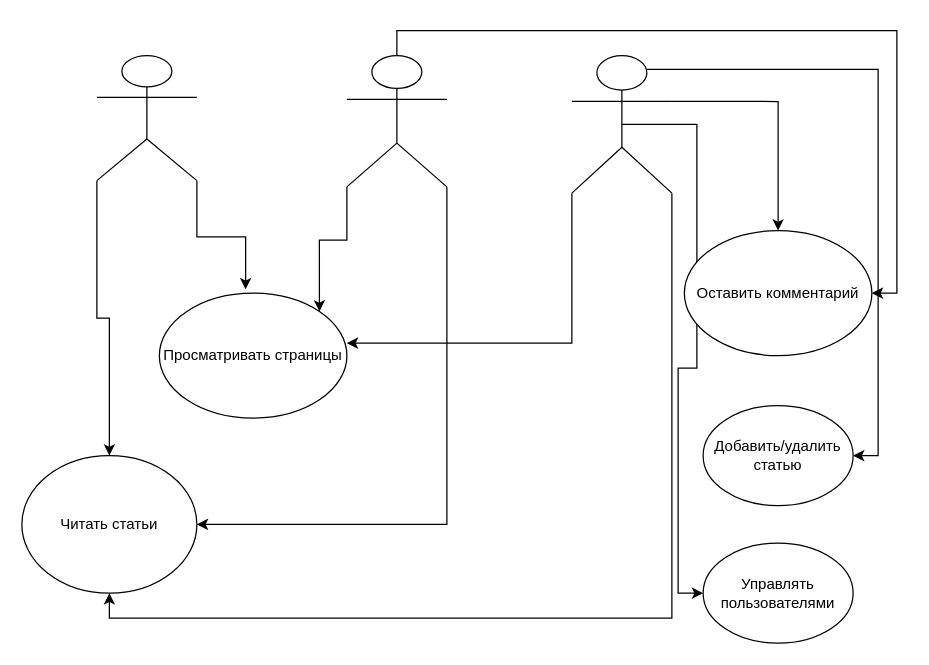
Some shapes in this 929 by 665 pixel diagram are drawn without their labels. Here are the shapes that lost their labels. From the top down, the box of each, then its label:
(96, 54, 197, 181): Гость
(346, 54, 447, 187): Пользователь
(571, 54, 672, 193): Администратор
